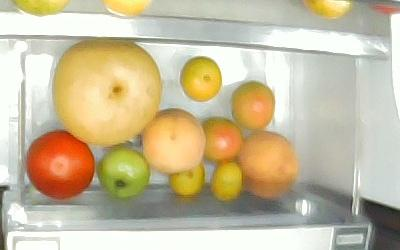peach: (234, 128, 297, 199), (140, 107, 206, 173)
pear: (50, 39, 161, 146)
tangerine: (179, 56, 222, 102), (208, 159, 243, 201), (167, 159, 204, 197)
tomato: (25, 128, 95, 199), (95, 145, 150, 200), (230, 79, 275, 131), (200, 115, 243, 164)
